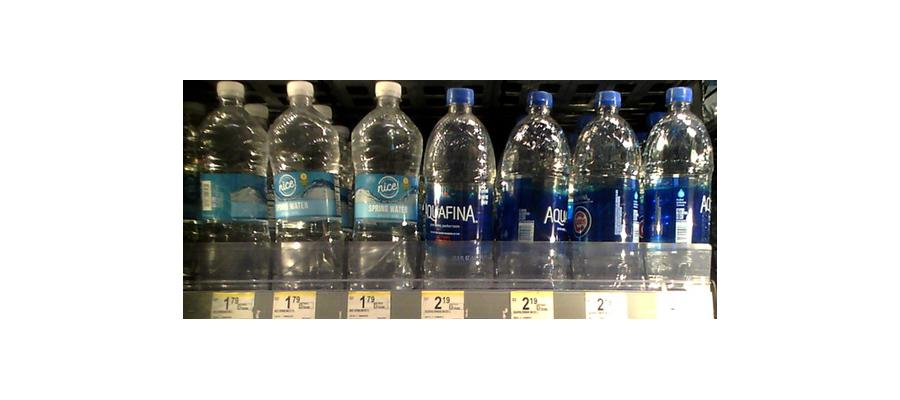bottle: (346, 79, 419, 287), (269, 79, 343, 283), (498, 85, 571, 290), (642, 82, 712, 289), (422, 86, 493, 285), (570, 85, 638, 292), (198, 80, 265, 282)
